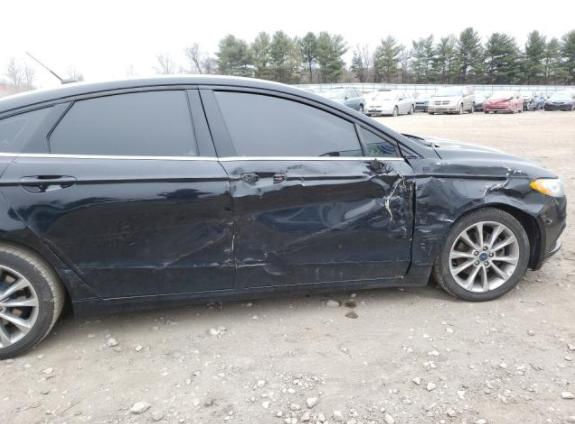Back-door: (0, 84, 236, 298)
Back-wheel: (0, 241, 65, 359)
Back-window: (48, 90, 199, 156), (0, 105, 56, 153)
Fender: (407, 159, 558, 276)
Front-bumper: (530, 194, 567, 271)
Front-door: (198, 84, 415, 289)
Front-wheel: (432, 207, 530, 301)
Front-window: (212, 89, 365, 156), (359, 125, 397, 156)
Headlight: (529, 178, 566, 196)
Hood: (402, 133, 544, 169)
Quarter-panel: (0, 189, 101, 301)
Rocker-panel: (72, 275, 431, 318)
Roof: (0, 73, 307, 102)
